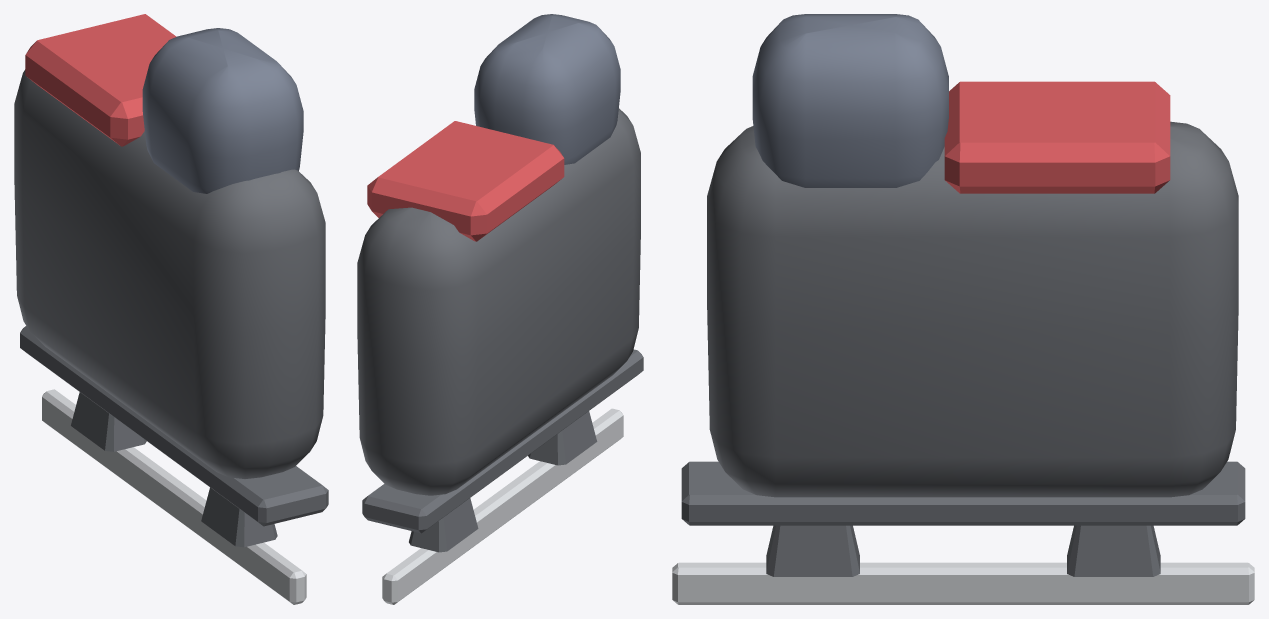
Rendered from ice-hockey-arena-and-locker-room-player-skate-1217cfdd__33721.glb.
3 renders of one model, left to right at view 1: azimuth 30°, elevation 25°; view 2: azimuth 150°, elevation 25°; view 3: azimuth 270°, elevation 25°, orthographic. The views are drawn at different scales.
Parts seen in each view (by area): view 1: player-skate; view 2: player-skate; view 3: player-skate.
Part boxes in pixels (<box>): player-skate: <box>14,14,328,604</box>; player-skate: <box>357,14,643,604</box>; player-skate: <box>672,14,1254,604</box>.
Size of the model in its own units: 0.093 by 0.339 by 0.31.
